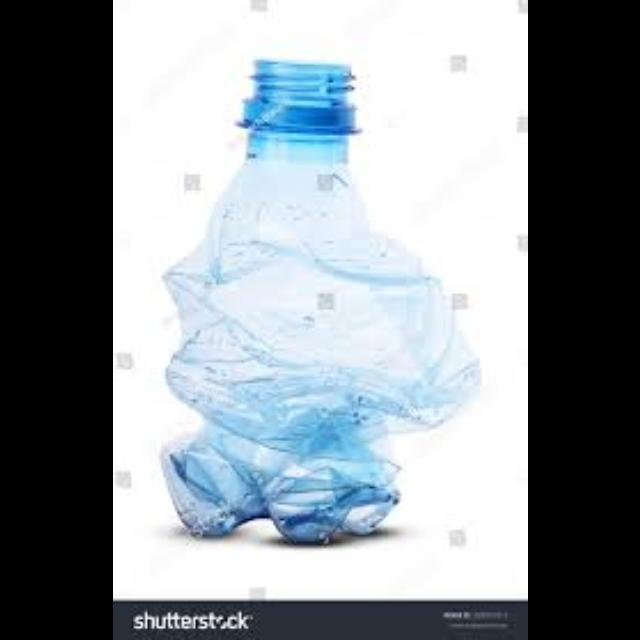trash: (150, 44, 470, 544)
